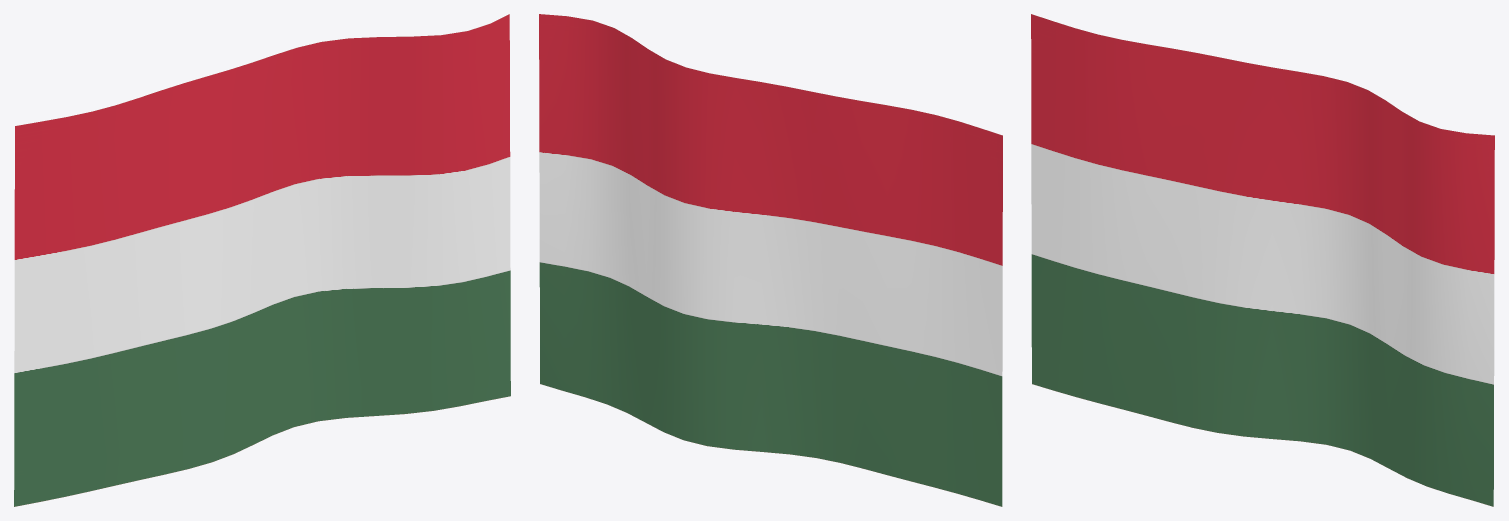
Rendered from HU_Hungary.glb.
3 renders of one model, left to right at view 1: azimuth 30°, elevation 25°; view 2: azimuth 150°, elevation 25°; view 3: azimuth 330°, elevation 25°, orthographic. The views are drawn at different scales.
Parts seen in each view (by area): view 1: HU_flag; view 2: HU_flag; view 3: HU_flag.
Boxes of the visible parts, x1,y1,x2,y2 form: HU_flag: [14, 14, 510, 506]; HU_flag: [539, 14, 1002, 506]; HU_flag: [1031, 14, 1494, 506].
Size of the model in its own units: 1.33 by 1 by 0.1347.
Materials: 1 (1 with a texture image).
